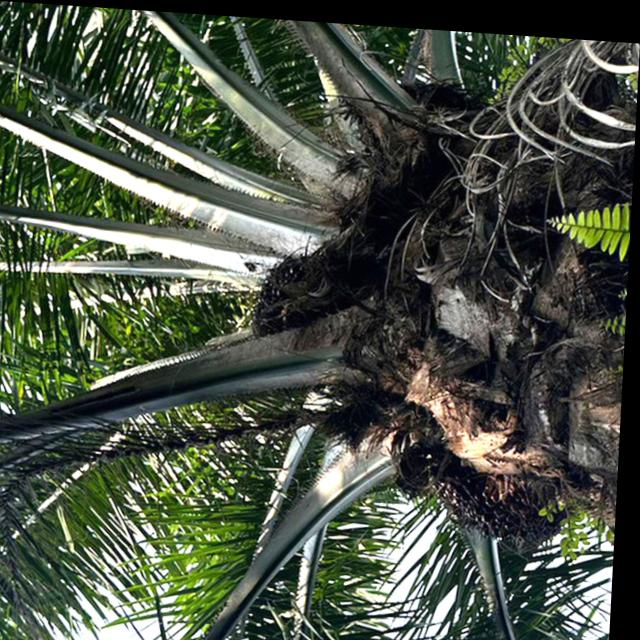unripe: (249, 238, 354, 349)
